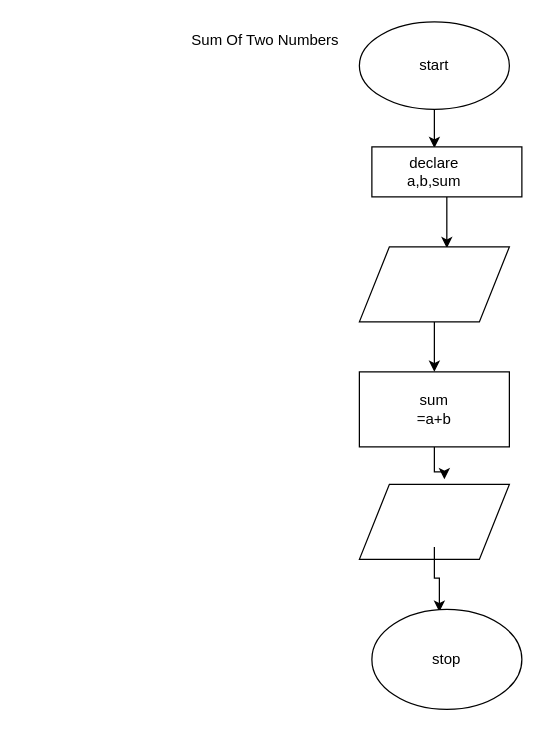
Image size: 544x731. Some labels were removed from this diagram. The box of each missing label's shape, as (x1, y1, x2, y2) in pixels:
display sum: (358, 483, 509, 559)
read a,b: (358, 246, 509, 322)
